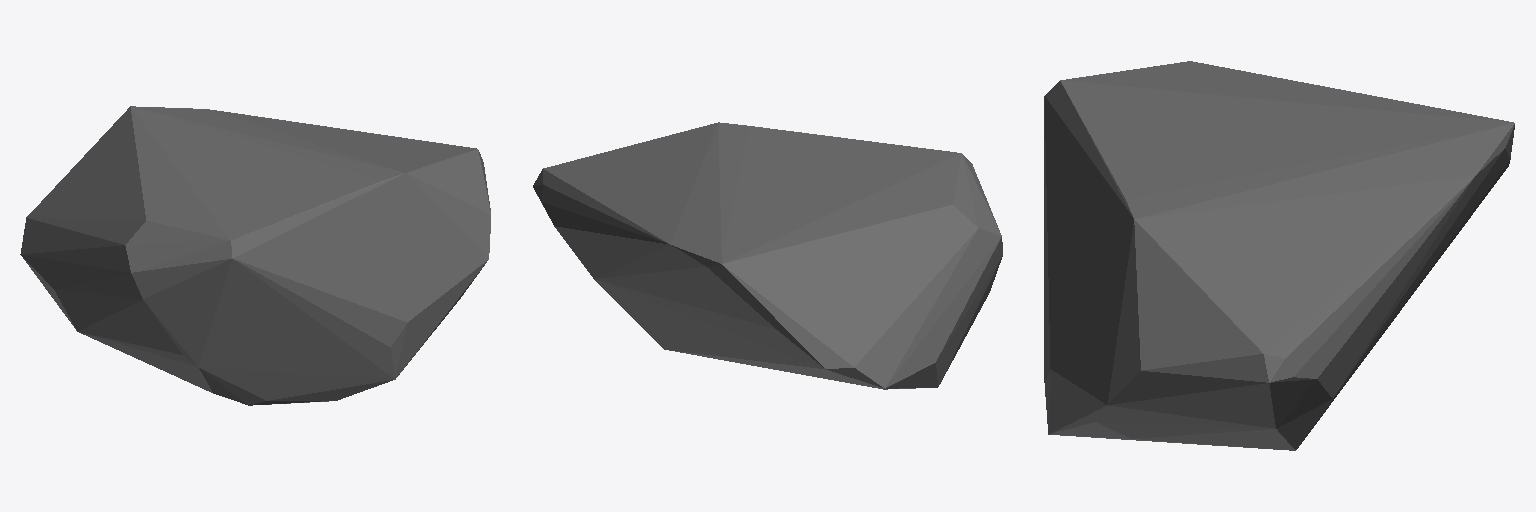
The robot description file, URDF, robot "60_021":
<?xml version="1.0"?>
<robot name="60_021">
  <link name="link">
    <contact>
      <lateral_friction value="0.6"/>
    </contact>
    <inertial>
      <origin xyz="-0.007857090297972586 -0.0008037479483868336 0.0022829252459663223" rpy="0 0 0"/>
      <mass value = "0.5312989292960492"/>
      <inertia ixx="0.0002253518749668386" ixy="-6.239549770854587e-05" ixz="2.0716308157666945e-05" iyy="0.00047315979902721295" iyz="-3.0595913551957025e-05" izz="0.0005135540472291901" />
    </inertial>
    <visual name="visual">
      <geometry>
        <mesh filename="60_021.obj"/>
      </geometry>
      <material name="material">
        <color rgba="0.45637882676291974 0.45637882676291974 0.45637882676291974 1.0"/>
      </material>
    </visual>
    <collision name="collision">
      <geometry>
        <mesh filename="60_021.obj"/>
      </geometry>
    </collision>
  </link>
</robot>

--- What the picture shows (computed from the rendered views, not written in the file) ---
Views: 3 orthographic renders of the robot side by side, from view 1: azimuth 30°, elevation 25°; view 2: azimuth 150°, elevation 25°; view 3: azimuth 270°, elevation 25°.
Robot: 60_021 — 1 links, 0 joints (none); root link link; default pose: every joint at zero.
Visible links, largest first — view 1: link; view 2: link; view 3: link.
Link boxes in pixels (bbox=[...]): link: bbox=[20, 106, 490, 405]; link: bbox=[533, 122, 1002, 389]; link: bbox=[1044, 61, 1514, 450].
Bounding box of the posed robot: 0.1193 × 0.0861 × 0.0543 m (x, y, z).
Meshes: 1 distinct files referenced, 1 mesh visuals loaded (1 OBJ).
